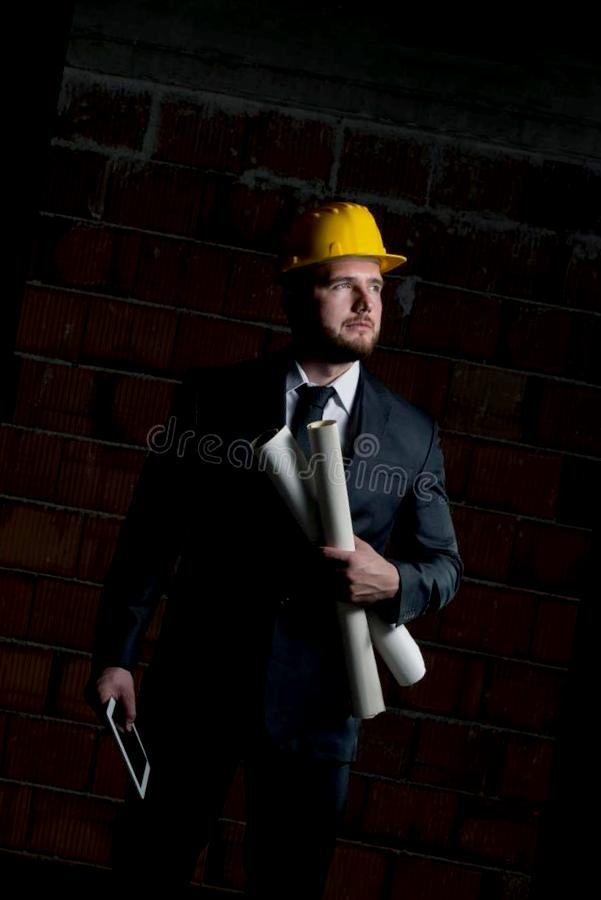helmet: (256, 180, 413, 286)
no_vest: (139, 356, 460, 754)
person: (71, 162, 544, 900)
